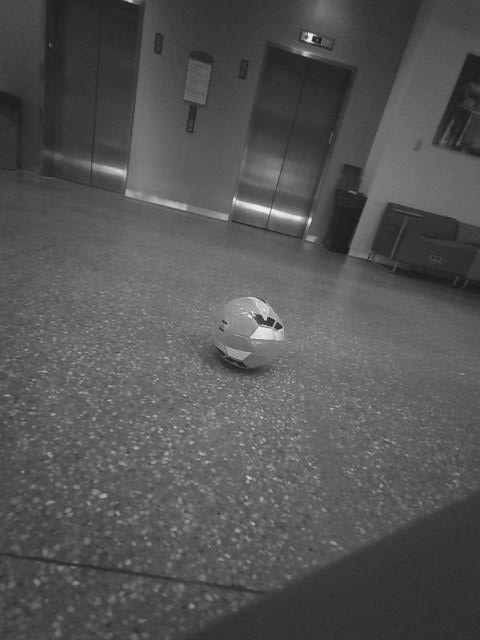ball: (202, 290, 295, 377)
